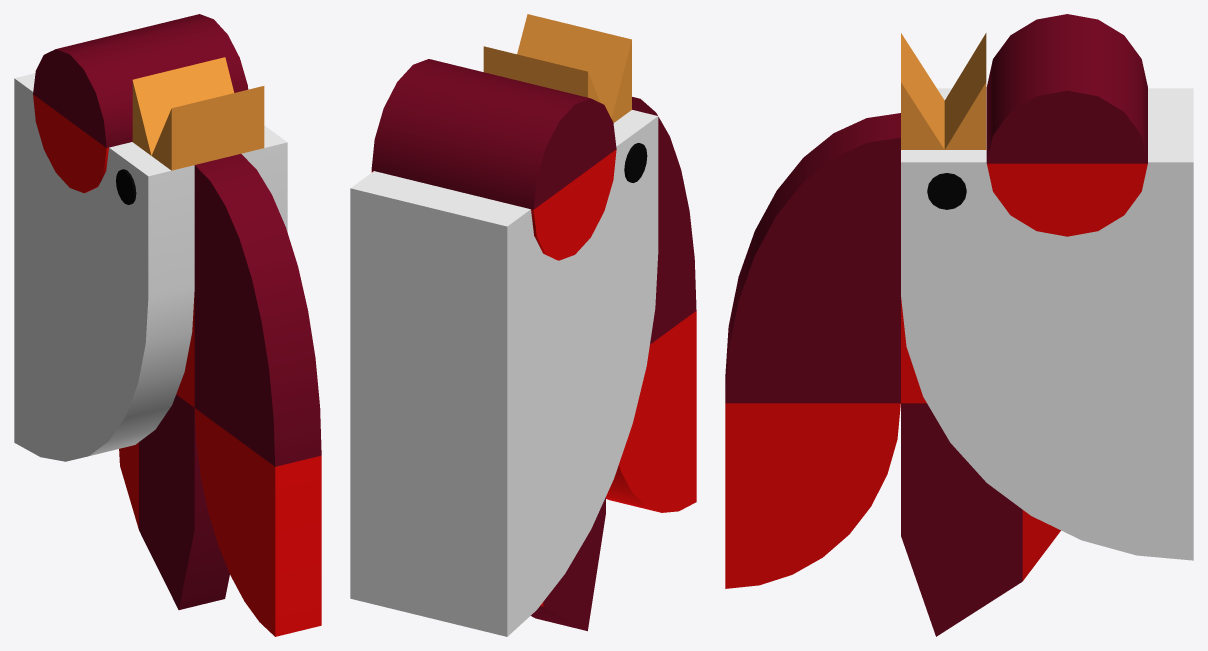
The model's file is kfc.fbx.
3 renders of one model, left to right at view 1: azimuth 30°, elevation 25°; view 2: azimuth 150°, elevation 25°; view 3: azimuth 270°, elevation 25°, orthographic. The views are drawn at different scales.
Parts seen in each view (by area): view 1: Plane.001, Plane, Circle, Plane.002, Circle.001; view 2: Plane, Circle, Plane.001, Plane.002, Circle.001; view 3: Plane, Plane.001, Circle, Plane.002, Circle.001.
Part boxes in pixels (x1=…): Plane.001: x1=119, y1=154, x2=321, y2=636; Plane: x1=14, y1=73, x2=287, y2=461; Circle: x1=33, y1=14, x2=248, y2=192; Plane.002: x1=132, y1=57, x2=264, y2=170; Circle.001: x1=116, y1=169, x2=136, y2=204; Plane: x1=350, y1=110, x2=658, y2=636; Circle: x1=371, y1=59, x2=616, y2=260; Plane.001: x1=531, y1=97, x2=696, y2=631; Plane.002: x1=483, y1=14, x2=631, y2=122; Circle.001: x1=624, y1=143, x2=647, y2=182; Plane: x1=901, y1=88, x2=1193, y2=560; Plane.001: x1=725, y1=113, x2=1060, y2=636; Circle: x1=986, y1=14, x2=1147, y2=236; Plane.002: x1=901, y1=33, x2=986, y2=149; Circle.001: x1=927, y1=173, x2=966, y2=209.
Bounding box in the file's own units: 0.062 × 0.16 × 0.2156.
